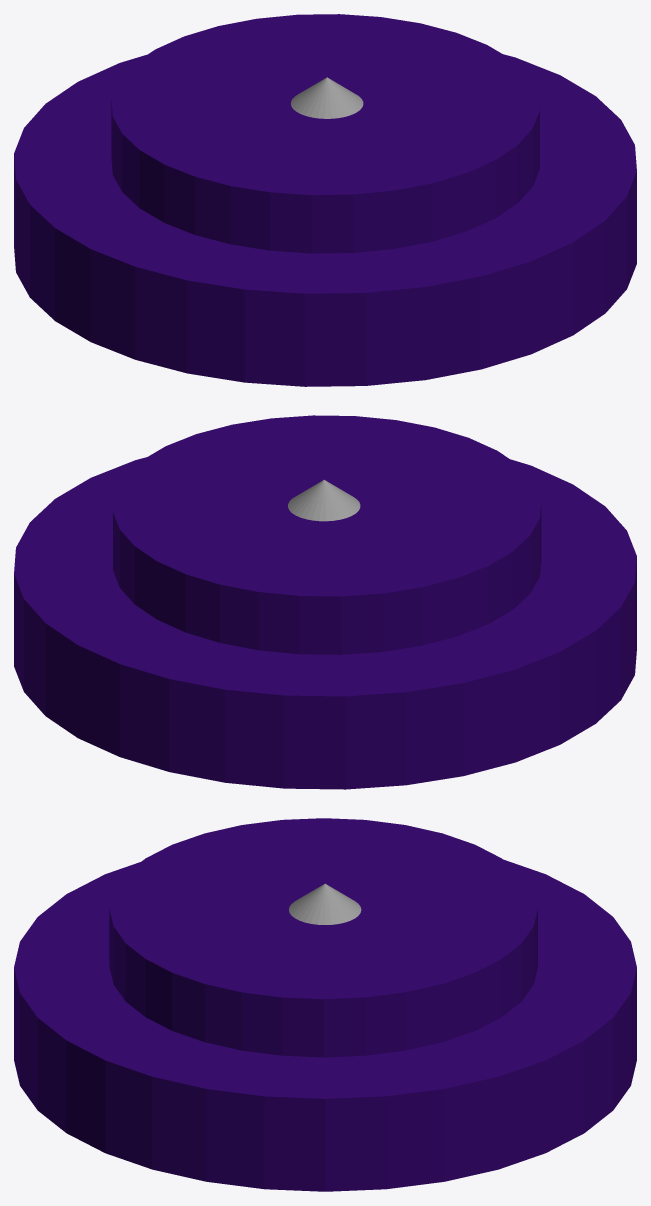
The model's file is SimpleTeleporter.fbx.
3 views of the same model, one above another, from view 1: azimuth 30°, elevation 25°; view 2: azimuth 150°, elevation 25°; view 3: azimuth 270°, elevation 25° (orthographic).
Parts seen in each view (by area): view 1: Cylinder; view 2: Cylinder; view 3: Cylinder.
Part boxes in pixels (x1=…): Cylinder: x1=14, y1=14, x2=636, y2=386; Cylinder: x1=14, y1=415, x2=636, y2=789; Cylinder: x1=14, y1=818, x2=636, y2=1191.
Size of the model in its own units: 359 by 113 by 359.
